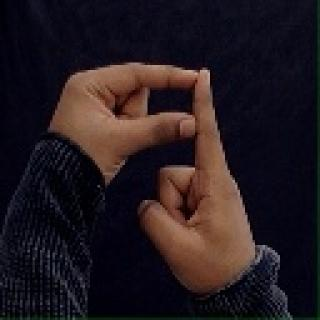P: (40, 42, 264, 298)
